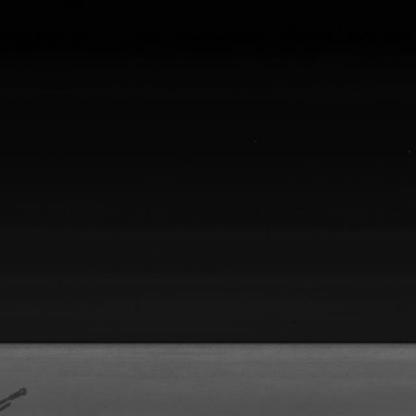oil_spot: (0, 387, 34, 411)
